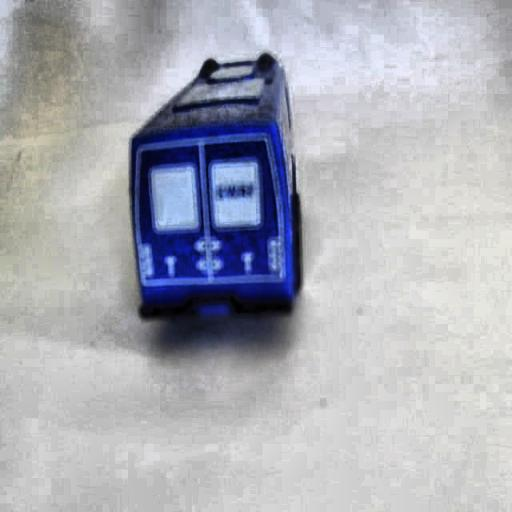police car: (130, 46, 300, 321)
